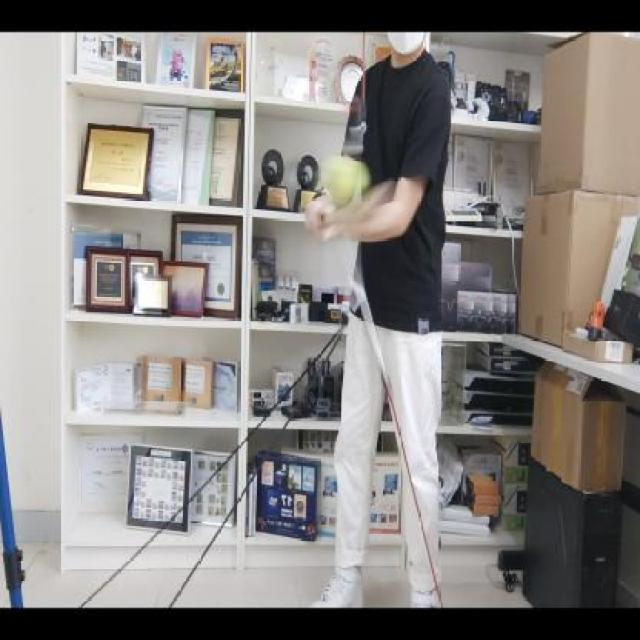baseball: (324, 150, 371, 212)
